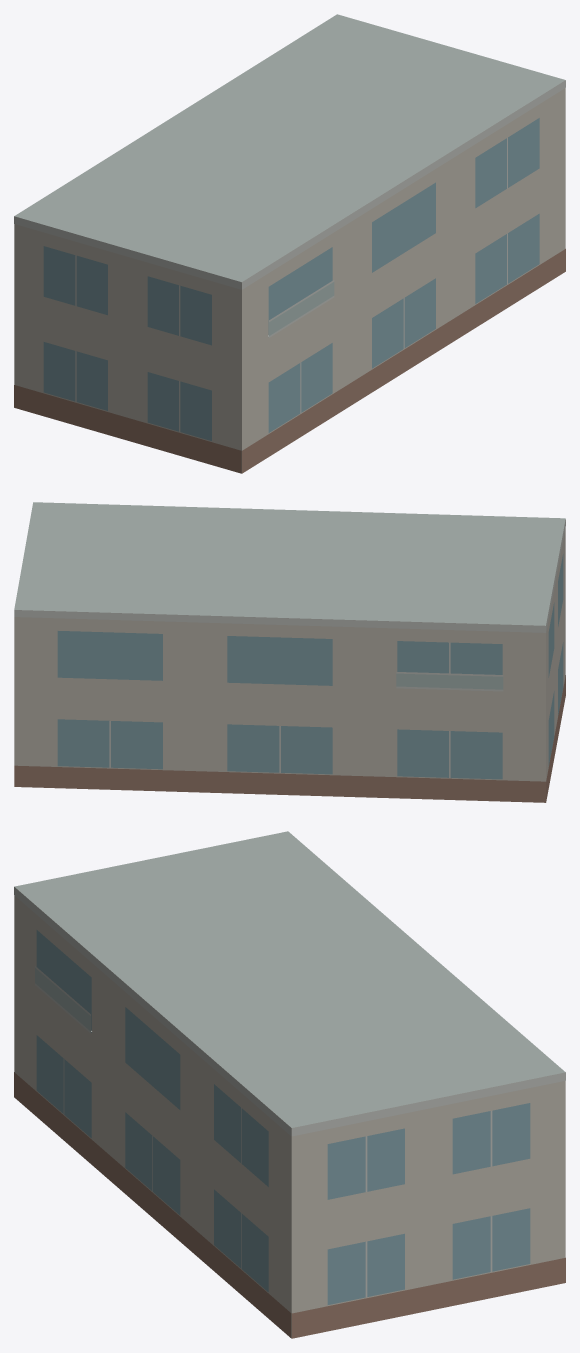
The model's file is survey-upis-32705817.glb.
3 renders of one model, top to bottom at view 1: azimuth 30°, elevation 25°; view 2: azimuth 150°, elevation 25°; view 3: azimuth 270°, elevation 25°, orthographic. The views are drawn at different scales.
Parts seen in each view (by area): view 1: survey-upis-32705817.tmp; view 2: survey-upis-32705817.tmp; view 3: survey-upis-32705817.tmp.
Boxes of the visible parts, left/top/right/bottom form: survey-upis-32705817.tmp: left=14, top=14, right=565, bottom=473; survey-upis-32705817.tmp: left=14, top=502, right=565, bottom=802; survey-upis-32705817.tmp: left=14, top=831, right=565, bottom=1338.
Bounding box in the file's own units: 18.46 × 6.1 × 14.49.
